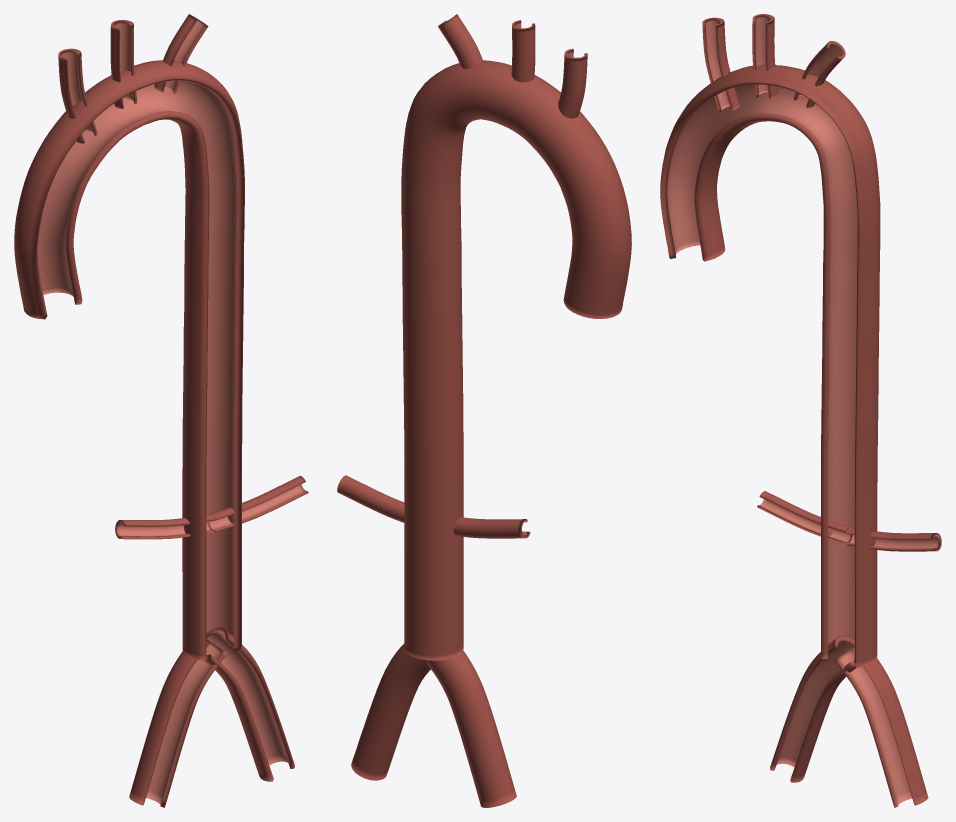
File: iabp-aorta-cutaway.glb
3 renders of one model, left to right at view 1: azimuth 30°, elevation 25°; view 2: azimuth 150°, elevation 25°; view 3: azimuth 330°, elevation 25°, orthographic. The views are drawn at different scales.
Parts seen in each view (by area): view 1: IABP_Aorta_OpenLumen, IABP_IliacArtery_1, IABP_IliacArtery_2, IABP_RenalArtery_2, IABP_ArchBranch_1, IABP_RenalArtery_1, IABP_ArchBranch_2, IABP_ArchBranch_3; view 2: IABP_Aorta_OpenLumen, IABP_IliacArtery_1, IABP_IliacArtery_2, IABP_ArchBranch_1, IABP_RenalArtery_2, IABP_RenalArtery_1, IABP_ArchBranch_2, IABP_ArchBranch_3; view 3: IABP_Aorta_OpenLumen, IABP_IliacArtery_2, IABP_IliacArtery_1, IABP_ArchBranch_1, IABP_RenalArtery_1, IABP_ArchBranch_2, IABP_RenalArtery_2, IABP_ArchBranch_3.
Part boxes in pixels (x1,y1,x2,y2): IABP_Aorta_OpenLumen: (14,60,244,660); IABP_IliacArtery_1: (129,639,227,807); IABP_IliacArtery_2: (204,627,294,781); IABP_RenalArtery_2: (208,476,308,532); IABP_ArchBranch_1: (58,48,97,143); IABP_RenalArtery_1: (115,514,215,539); IABP_ArchBranch_2: (110,20,137,108); IABP_ArchBranch_3: (154,14,208,94); IABP_Aorta_OpenLumen: (401,60,631,660); IABP_IliacArtery_1: (426,650,516,807); IABP_IliacArtery_2: (351,643,430,780); IABP_ArchBranch_1: (558,48,587,118); IABP_RenalArtery_2: (337,475,404,522); IABP_RenalArtery_1: (453,517,530,538); IABP_ArchBranch_2: (511,20,535,82); IABP_ArchBranch_3: (438,14,482,68); IABP_Aorta_OpenLumen: (660,65,880,667); IABP_IliacArtery_2: (834,646,928,807); IABP_IliacArtery_1: (770,635,856,782); IABP_ArchBranch_1: (702,17,739,111); IABP_RenalArtery_1: (757,491,852,545); IABP_ArchBranch_2: (752,14,777,99); IABP_RenalArtery_2: (846,527,941,551); IABP_ArchBranch_3: (794,41,845,108).
Size of the model in its own units: 2.57 by 6.73 by 0.3918.
